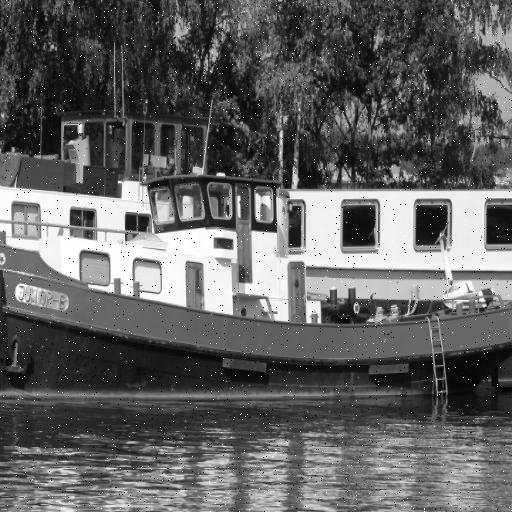tugboat: (1, 166, 512, 436)
